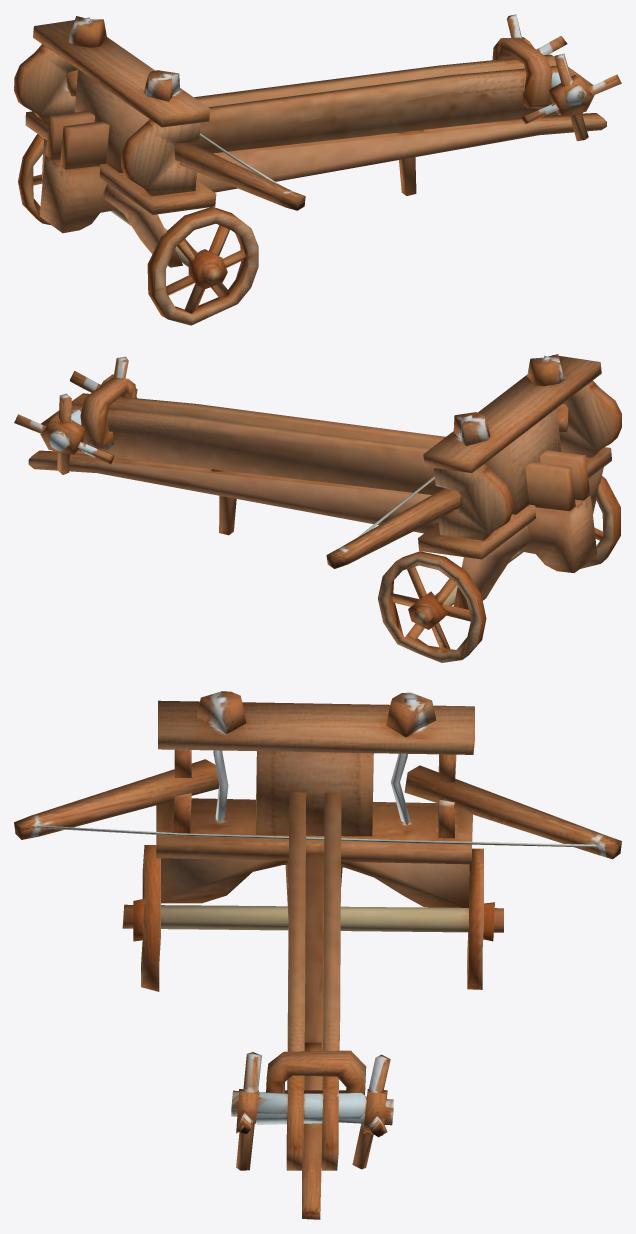
Rendered from ballista.fbx.
3 renders of one model, top to bottom at view 1: azimuth 30°, elevation 25°; view 2: azimuth 150°, elevation 25°; view 3: azimuth 270°, elevation 25°, orthographic. The views are drawn at different scales.
Visible parts, largest first — view 1: tripo_node_c1c63b35; view 2: tripo_node_c1c63b35; view 3: tripo_node_c1c63b35.
Boxes of the visible parts, bbox=[...] form: tripo_node_c1c63b35: bbox=[14, 14, 621, 325]; tripo_node_c1c63b35: bbox=[14, 354, 621, 662]; tripo_node_c1c63b35: bbox=[14, 691, 621, 1219].
Size of the model in its own units: 200 by 78.82 by 156.
1 material, 1 textured.
